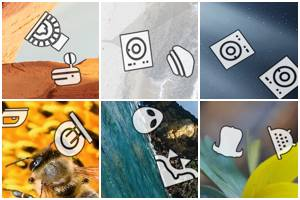thing: (206, 28, 259, 72), (21, 7, 69, 52), (151, 146, 199, 189), (115, 29, 159, 74), (259, 51, 299, 100), (54, 110, 93, 158), (210, 120, 249, 162), (260, 120, 297, 162), (48, 51, 85, 89), (164, 41, 194, 81), (133, 103, 164, 136), (3, 107, 33, 131)
